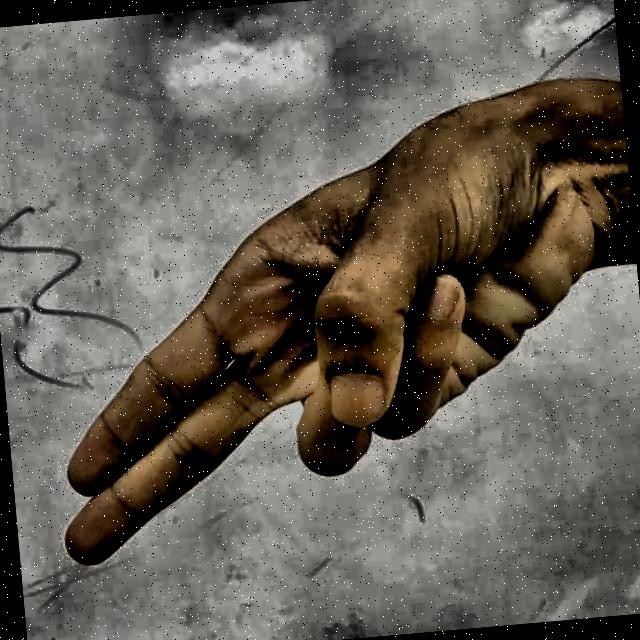Ha: (12, 45, 624, 620)
